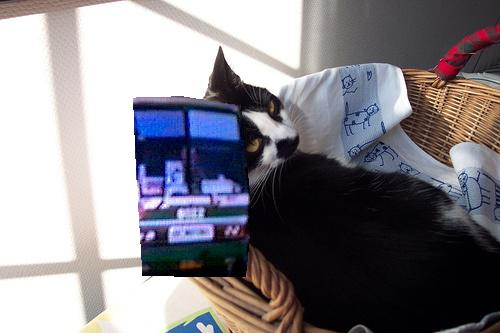tampered: (134, 97, 251, 277)
